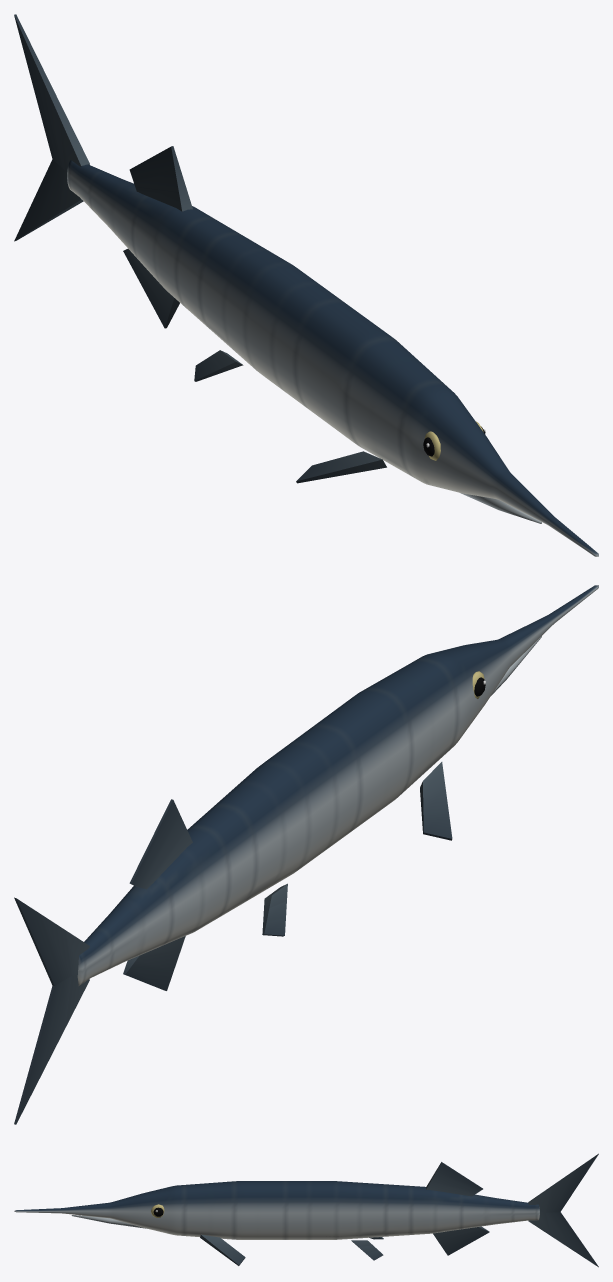
File: Aspidorhynchus.fbx
3 renders of one model, top to bottom at view 1: azimuth 30°, elevation 25°; view 2: azimuth 150°, elevation 25°; view 3: azimuth 270°, elevation 25°, orthographic. The views are drawn at different scales.
Parts seen in each view (by area): view 1: Aspidorhynchus; view 2: Aspidorhynchus; view 3: Aspidorhynchus.
Boxes of the visible parts, x1,y1,x2,y2 form: Aspidorhynchus: [14, 14, 598, 556]; Aspidorhynchus: [14, 585, 598, 1124]; Aspidorhynchus: [14, 1153, 598, 1267].
Size of the model in its own units: 0.2817 by 0.39 by 1.82.
